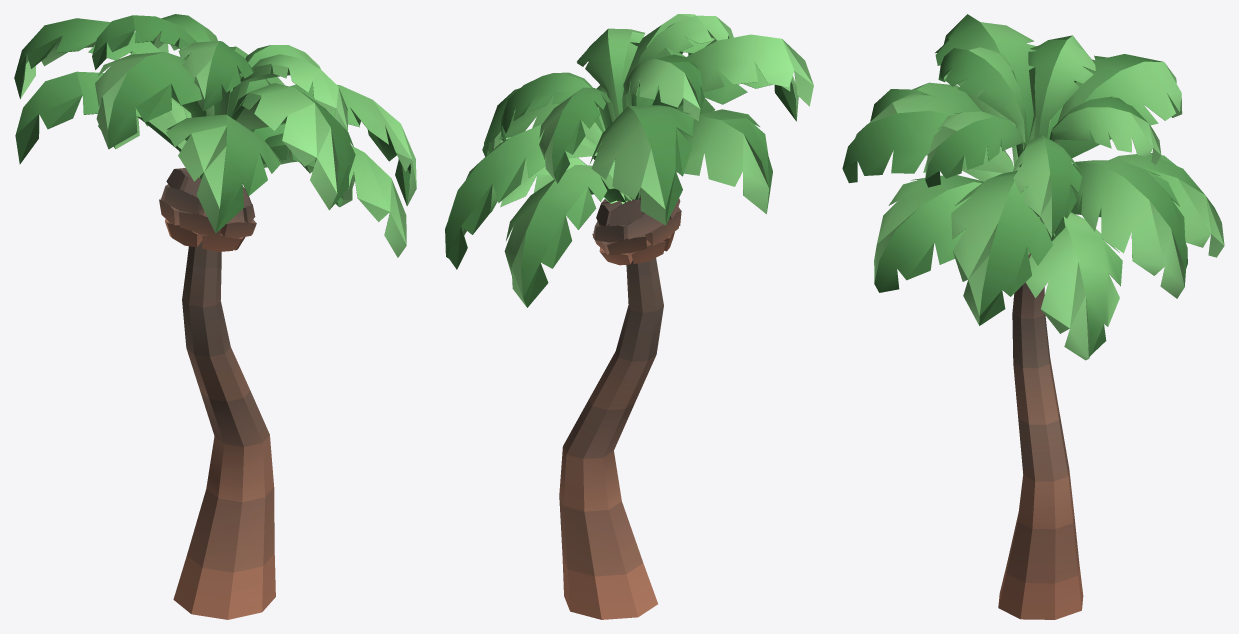
Rendered from toon coconut tree.fbx.
The picture shows the model from 3 angles, left to right: view 1: azimuth 30°, elevation 25°; view 2: azimuth 150°, elevation 25°; view 3: azimuth 270°, elevation 25°; orthographic projection. The views are drawn at different scales.
Parts seen in each view (by area): view 1: ParlmTree3_lambert3_0; view 2: ParlmTree3_lambert3_0; view 3: ParlmTree3_lambert3_0.
Part boxes in pixels (x1=…): ParlmTree3_lambert3_0: x1=14, y1=14, x2=416, y2=619; ParlmTree3_lambert3_0: x1=445, y1=14, x2=813, y2=619; ParlmTree3_lambert3_0: x1=842, y1=14, x2=1224, y2=619.
Size of the model in its own units: 542 by 890 by 580.
Materials: 1 (1 with a texture image).
